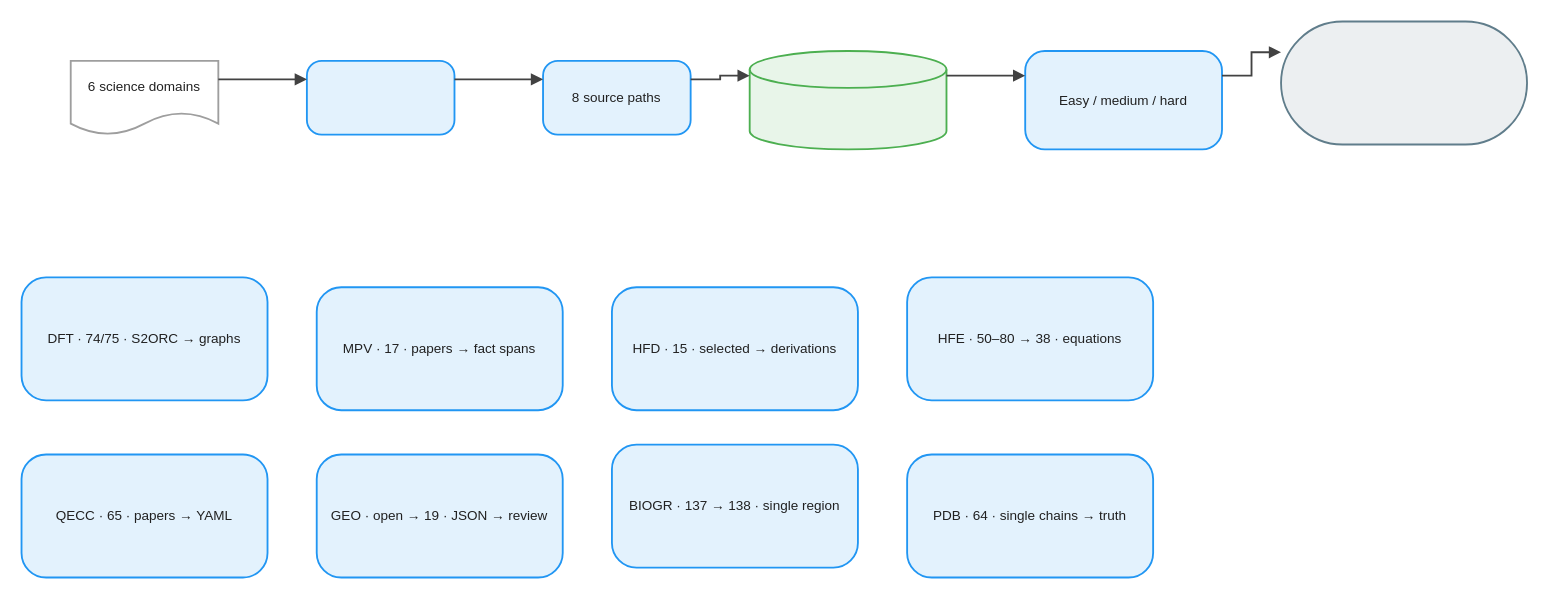
Some shapes in this 1550 by 600 pixel diagram are drawn without their labels. Each missing label, with the centre of its shape:
"578 enum. / 580 claimed" goes at (x=1403, y=82).
"Experts: 10 tasks" goes at (x=380, y=97).
"Task ground truths" goes at (x=847, y=100).
